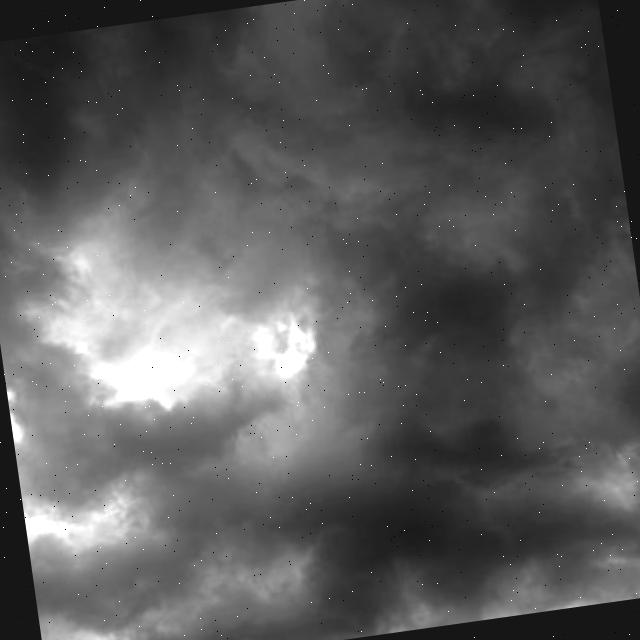Ns: (1, 1, 640, 599)
